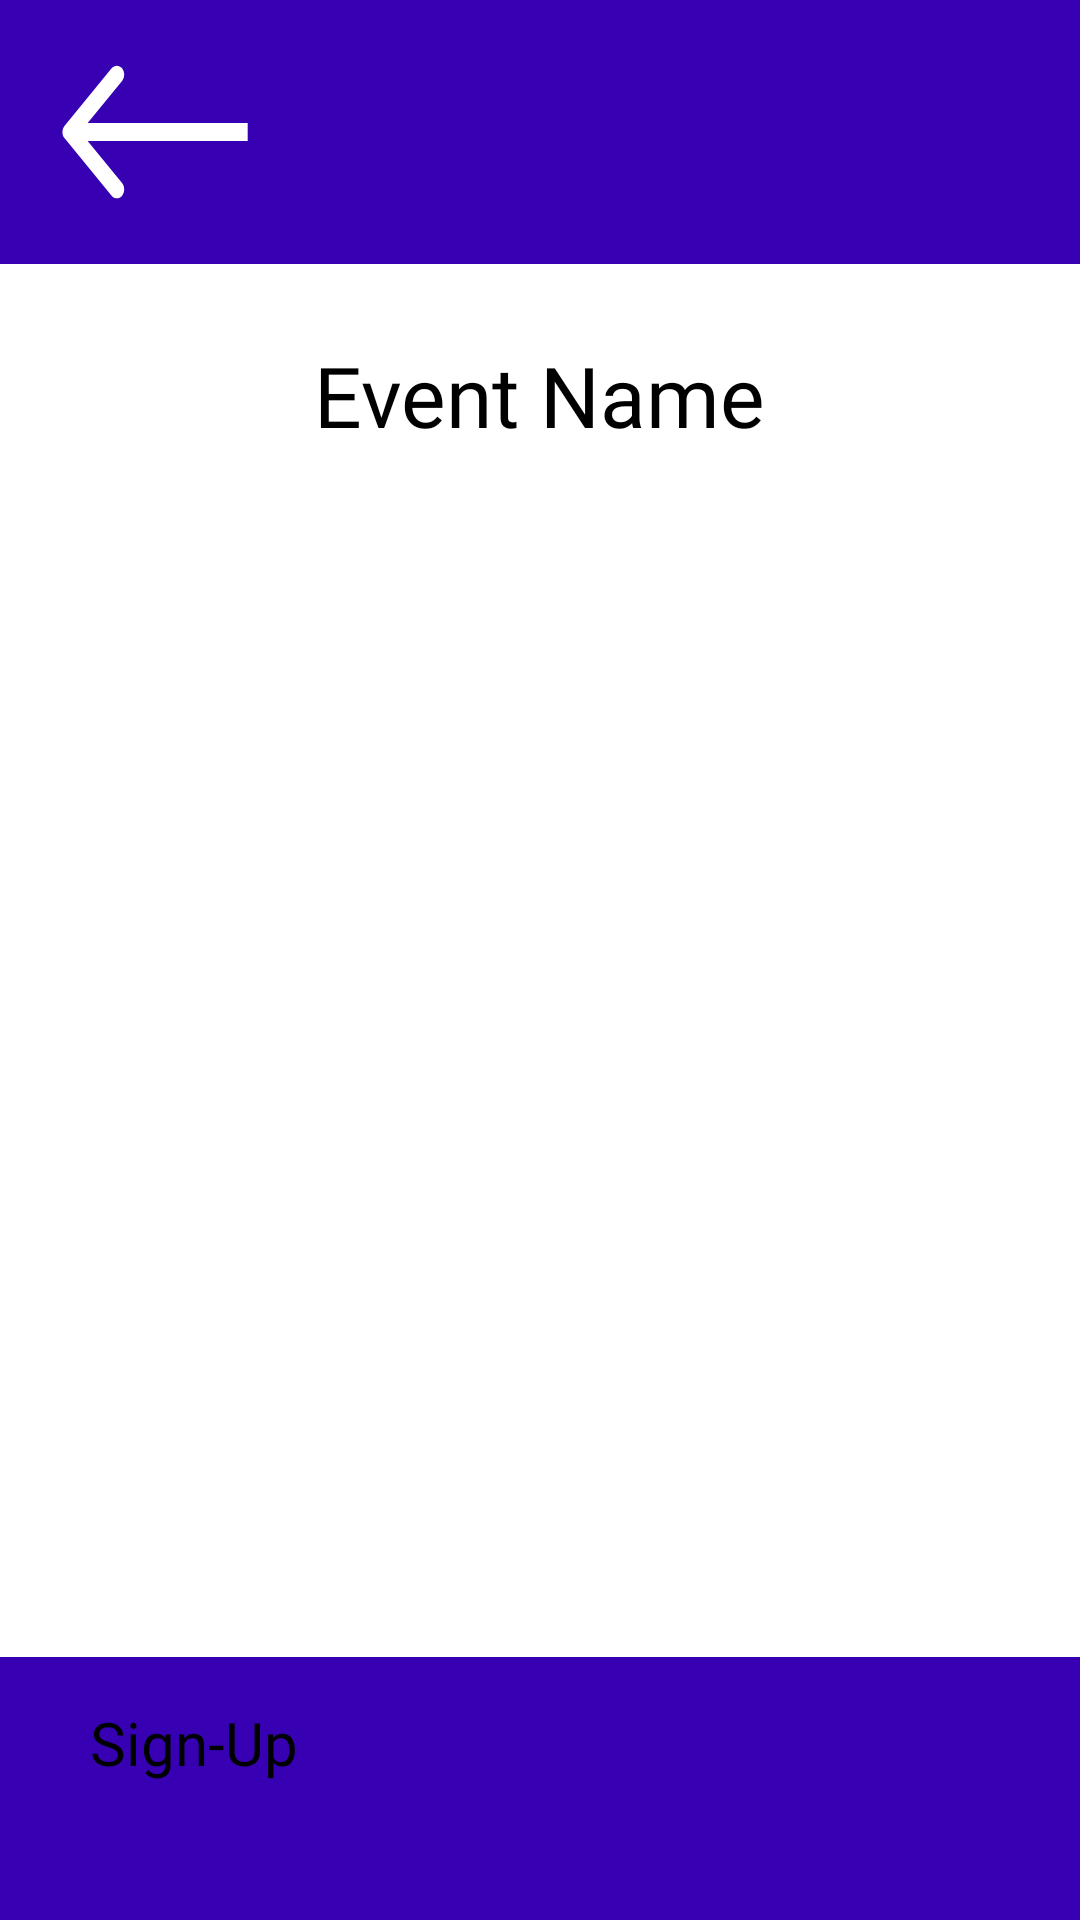

Screen size 1080×1920. Icon name, then its box in pixels as [x1,y1,x2,y2]:
arrow: [62,65,248,199]
